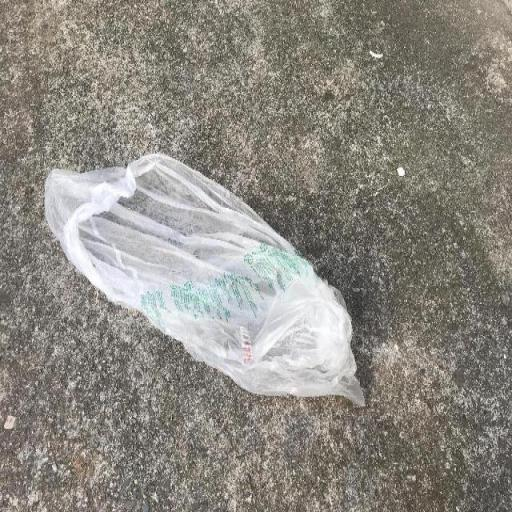plastic-bag: (40, 150, 369, 414)
